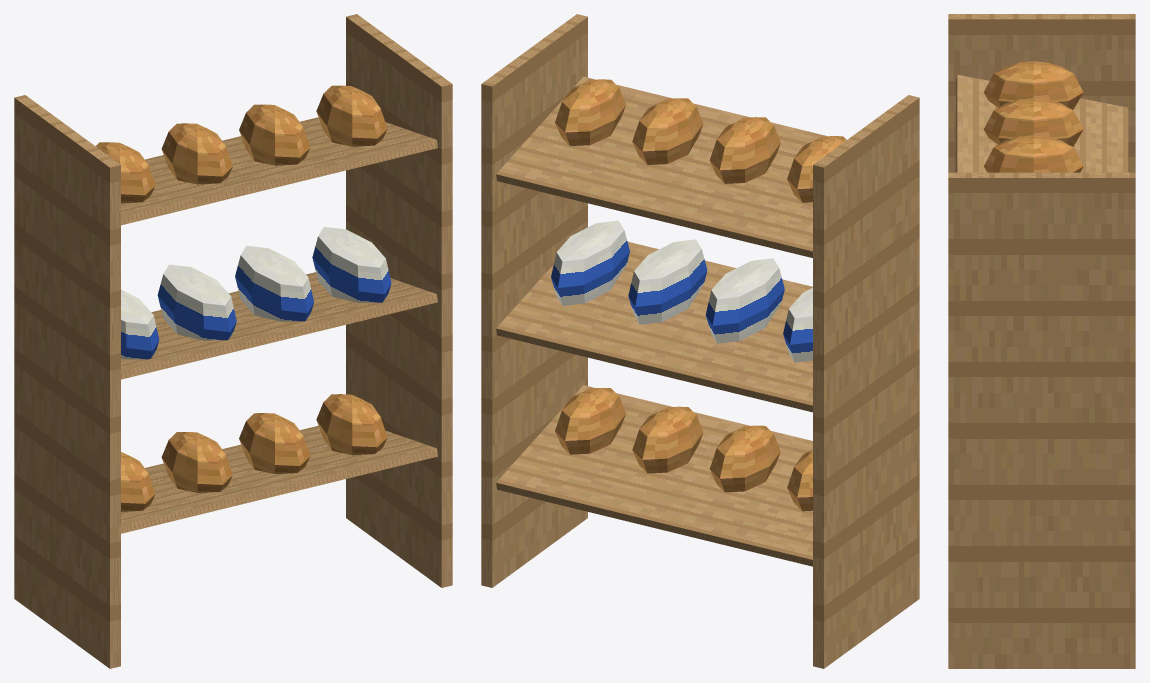
File: BreadRack_Normal.fbx
3 renders of one model, left to right at view 1: azimuth 30°, elevation 25°; view 2: azimuth 150°, elevation 25°; view 3: azimuth 270°, elevation 25°, orthographic. The views are drawn at different scales.
Parts seen in each view (by area): view 1: BreadRack.001; view 2: BreadRack.001; view 3: BreadRack.001.
Part boxes in pixels (bbox=[...]): BreadRack.001: bbox=[14, 14, 452, 668]; BreadRack.001: bbox=[481, 14, 919, 668]; BreadRack.001: bbox=[948, 14, 1135, 668].
Bounding box in the file's own units: 93 × 130 × 45.
